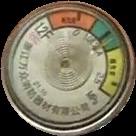green: (92, 19, 124, 50)
needle: (90, 37, 115, 54)
red: (48, 9, 100, 32)
yellow: (101, 46, 129, 102)
